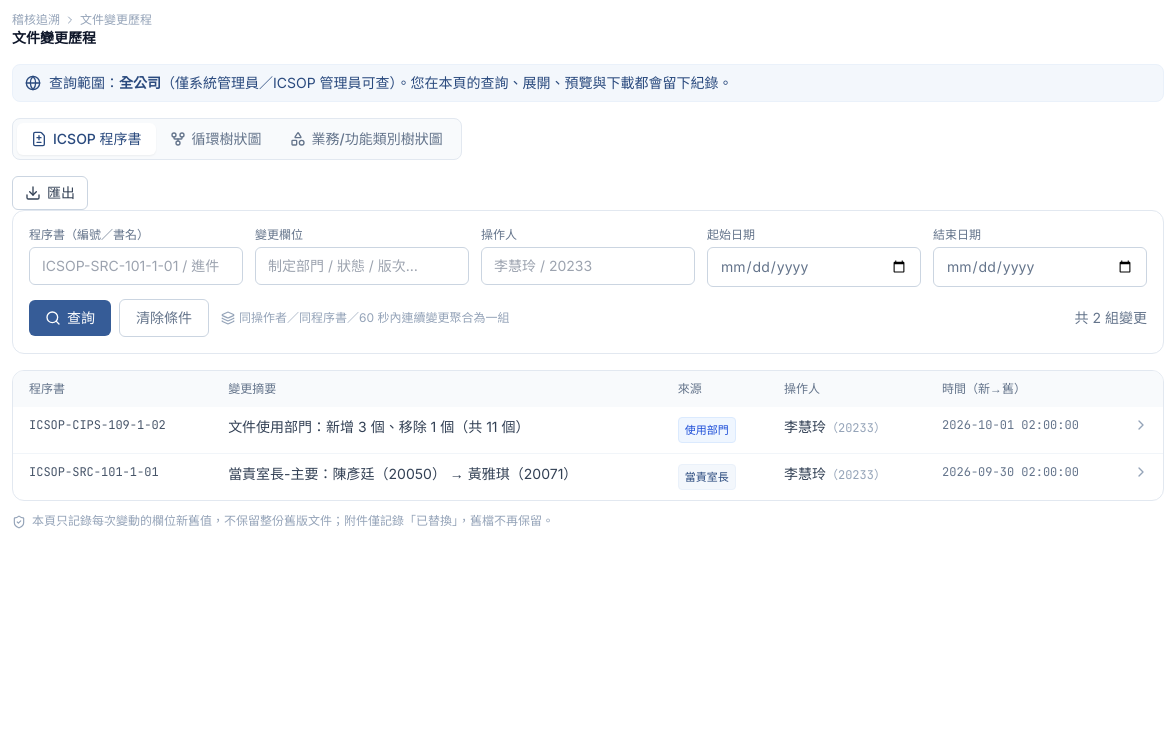
Test: ChangeHistoryPage — 2026-10-05 使用部門增減呈現與代碼轉名稱 › 展開 → 新增／移除各一組標籤（名稱、title＝代碼）；未變動預設收合、只顯示數量
What coordinates should you click on to do the following:
click the text "文件使用部門：新增 3 個、移除 1 個（共 11 個）"
I would click on:
 (437, 430)
Its box is [212, 407, 662, 454].
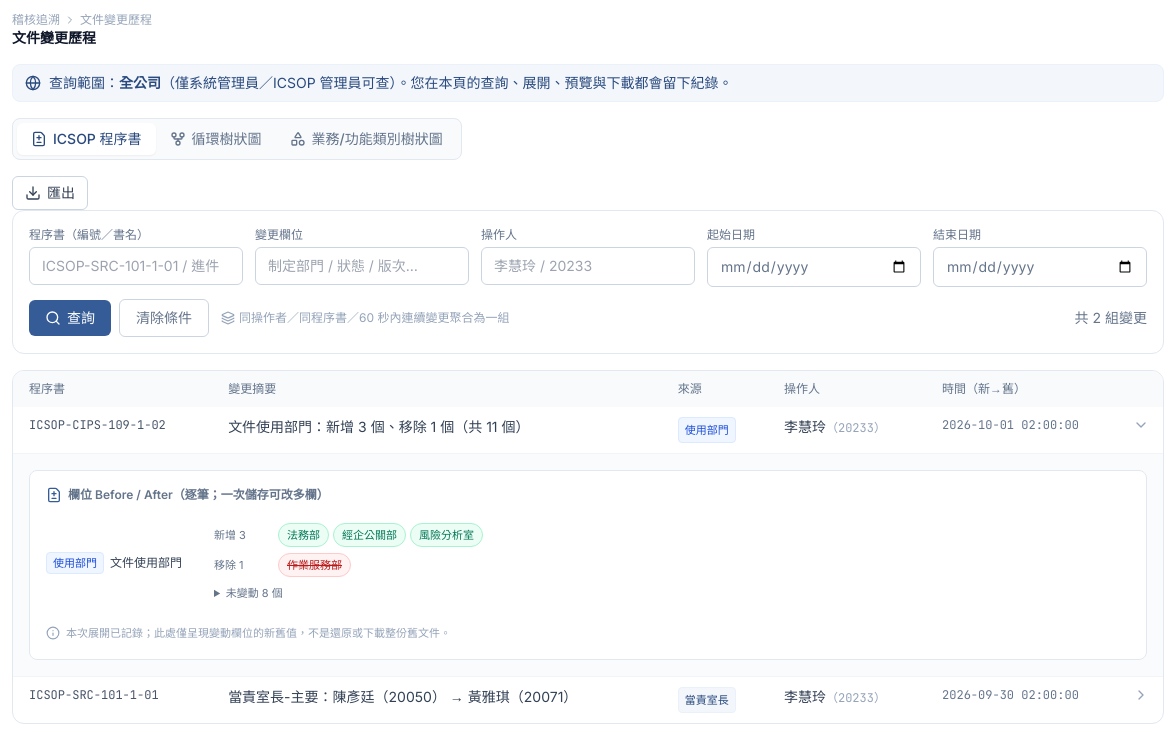
Result: the text "新增 3" is shown at [214, 528, 246, 542]
Result: the heading "未變動 8 個" is shown at [226, 586, 283, 600]
